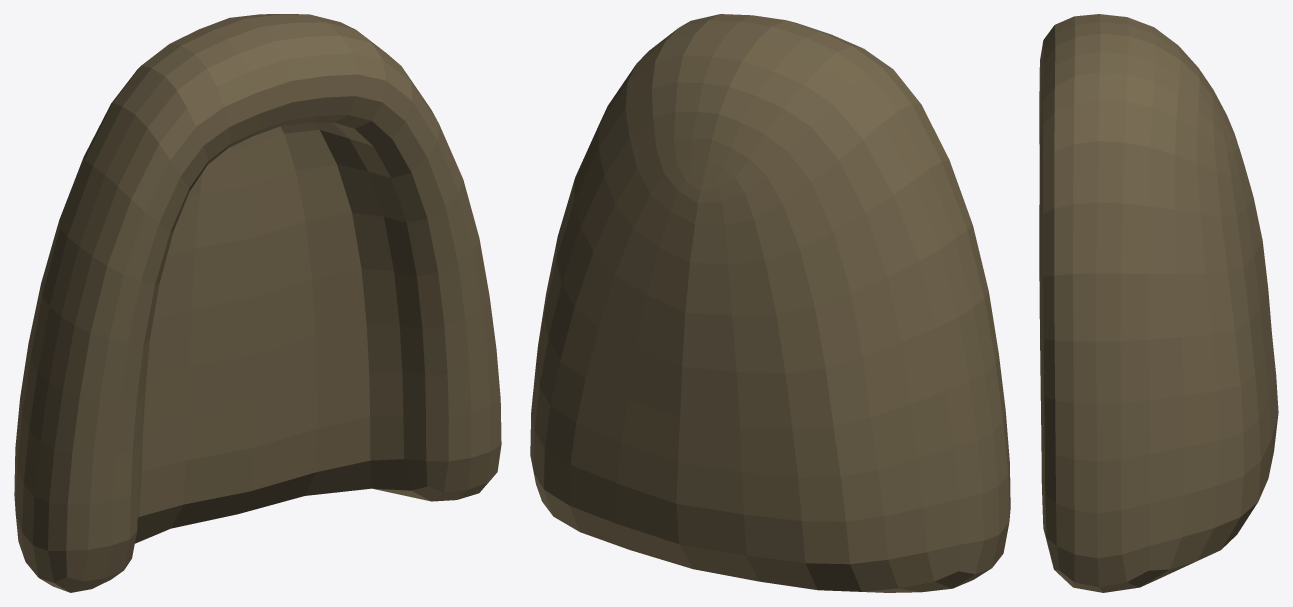
Rendered from PortalFrame.fbx.
3 views of the same model, side by side, from view 1: azimuth 30°, elevation 25°; view 2: azimuth 150°, elevation 25°; view 3: azimuth 270°, elevation 25° (orthographic). The views are drawn at different scales.
Parts seen in each view (by area): view 1: PortalFrame; view 2: PortalFrame; view 3: PortalFrame.
Part boxes in pixels (box(x1,y1,x2,y2)): PortalFrame: box(14, 14, 501, 592); PortalFrame: box(530, 14, 1010, 592); PortalFrame: box(1039, 14, 1278, 592).
Size of the model in its own units: 6.68 by 7.15 by 3.3.
